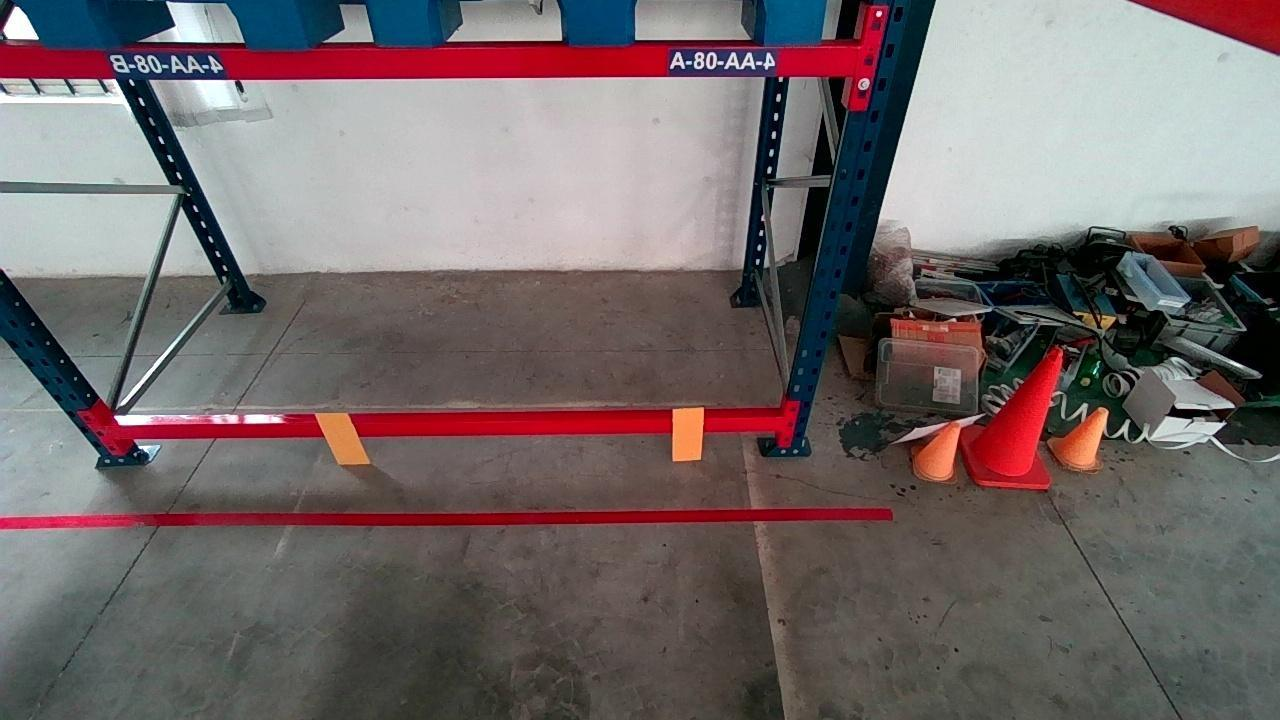h_rack: (17, 39, 857, 80), (115, 410, 781, 448)
orange_strip: (317, 411, 370, 463), (672, 405, 704, 460)
red_line: (5, 502, 891, 532)
small_pallet: (3, 0, 308, 42), (543, 0, 843, 35), (769, 0, 835, 41)
